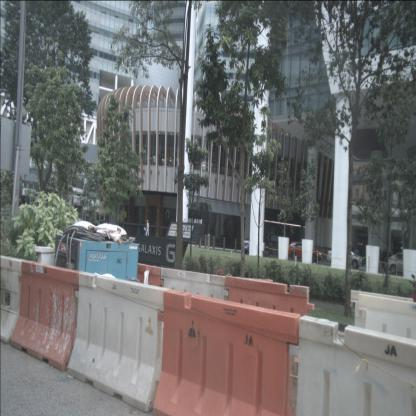barrier: (152, 288, 301, 416), (68, 274, 169, 412), (289, 314, 415, 415), (224, 275, 314, 373), (11, 260, 88, 371), (160, 266, 229, 364), (350, 288, 416, 389), (0, 255, 31, 345)
